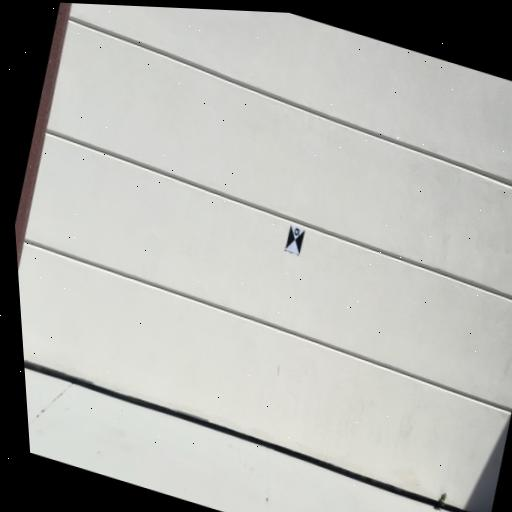target0: (284, 224, 304, 255)
